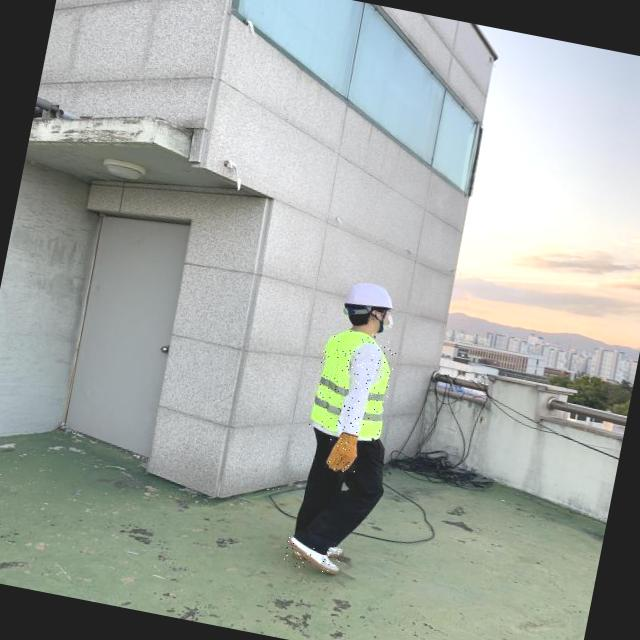gloves: (317, 415, 368, 490)
helmet: (316, 266, 416, 354)
no-boots: (282, 535, 344, 575)
vest: (308, 326, 398, 440)
